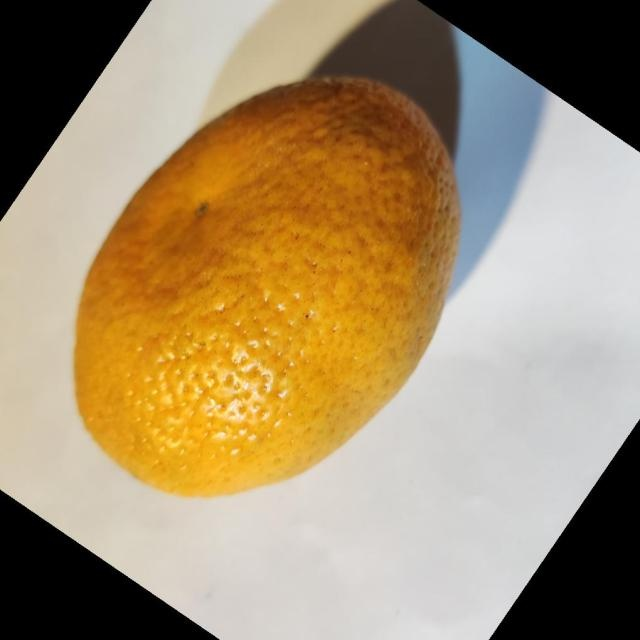agrume: (71, 74, 462, 498)
